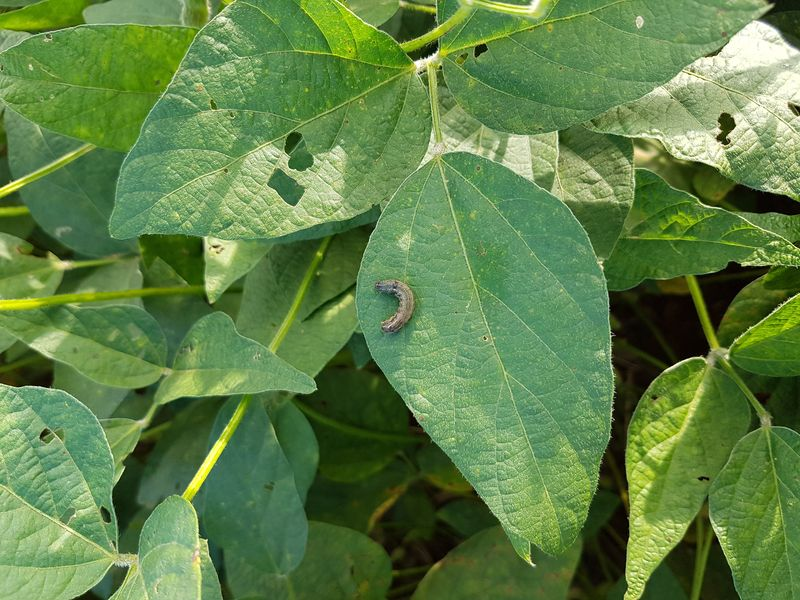Spodoptera_albula: (361, 268, 425, 344)
